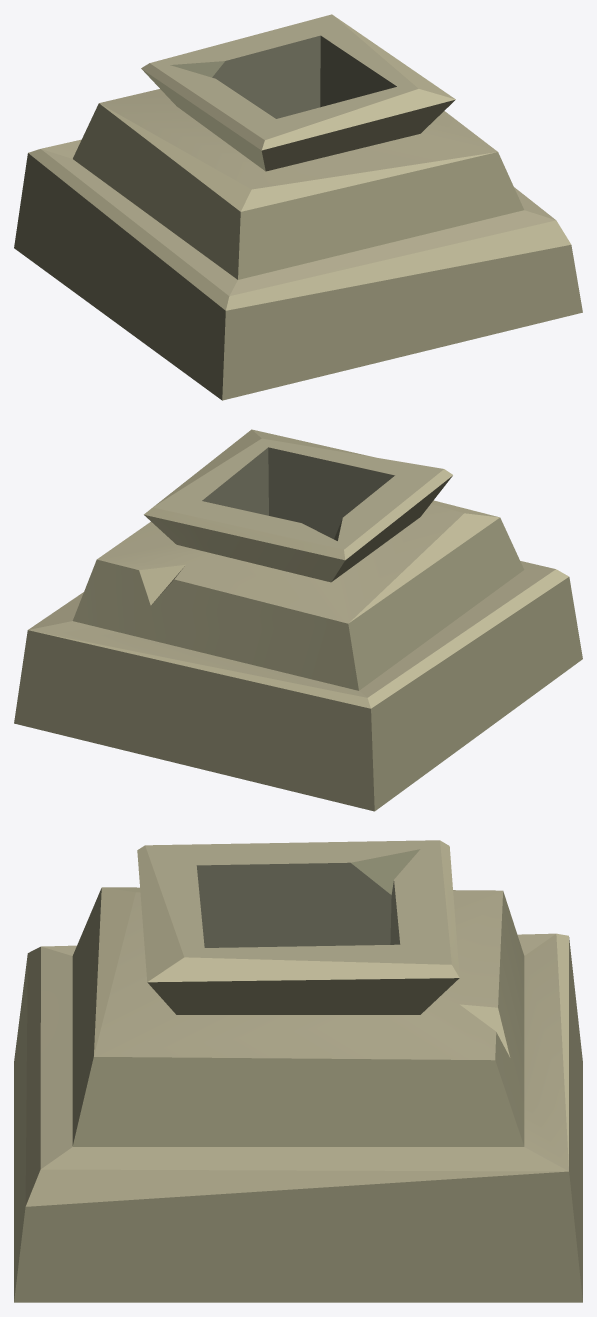
File: lamps.fbx
3 renders of one model, top to bottom at view 1: azimuth 30°, elevation 25°; view 2: azimuth 150°, elevation 25°; view 3: azimuth 270°, elevation 25°, orthographic. The views are drawn at different scales.
Visible parts, largest first — view 1: lamps; view 2: lamps; view 3: lamps.
Boxes of the visible parts, bbox=[...] form: lamps: bbox=[14, 14, 582, 400]; lamps: bbox=[14, 429, 582, 811]; lamps: bbox=[14, 840, 582, 1302].
Bounding box in the file's own units: 113 × 60.96 × 113.
